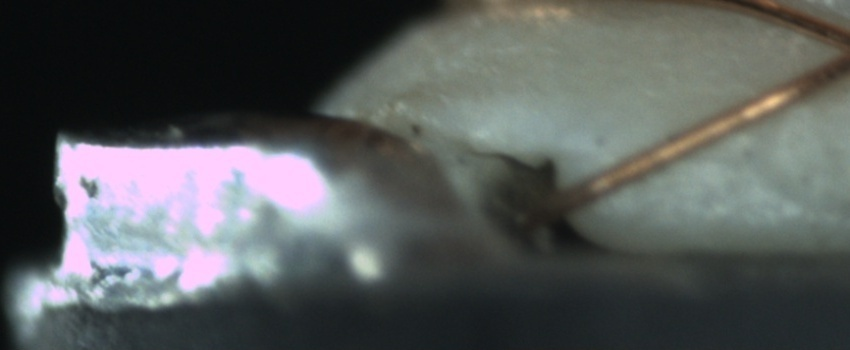CL: (807, 12, 850, 82)
